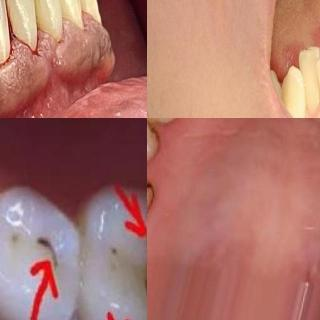cavities: (115, 239, 147, 297), (38, 234, 57, 258)
maligned: (296, 42, 320, 118)
stains: (147, 120, 167, 159), (147, 173, 151, 212)
